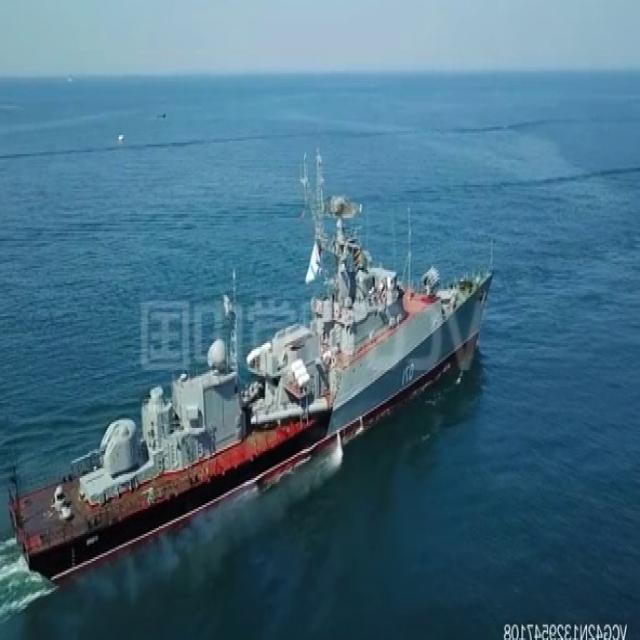navalvessels: (7, 166, 502, 574)
